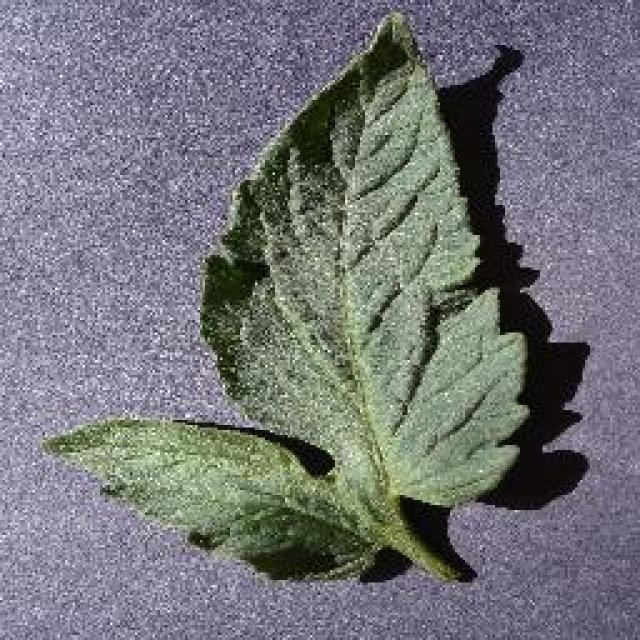Tomato healthy leaf: (56, 21, 532, 594)
